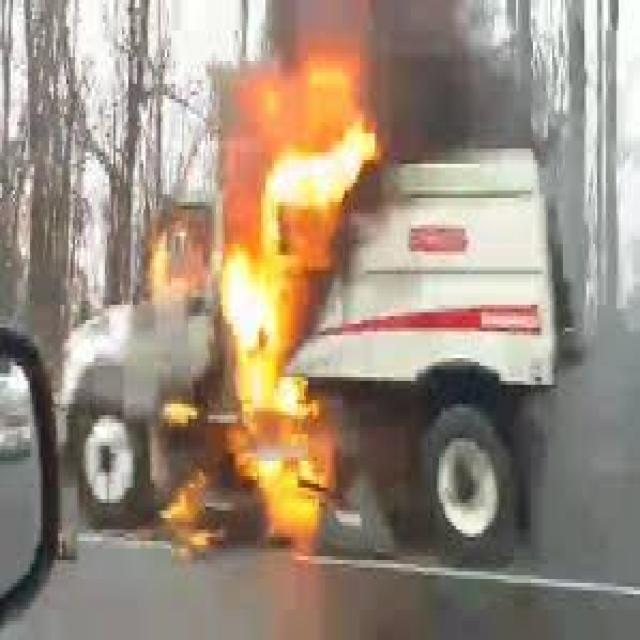Fire: (152, 65, 396, 572)
